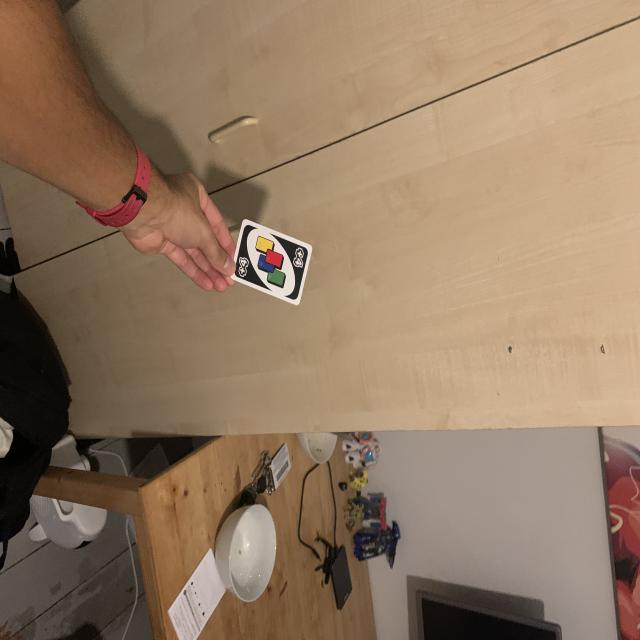lcolor-400: (235, 256, 251, 279)
